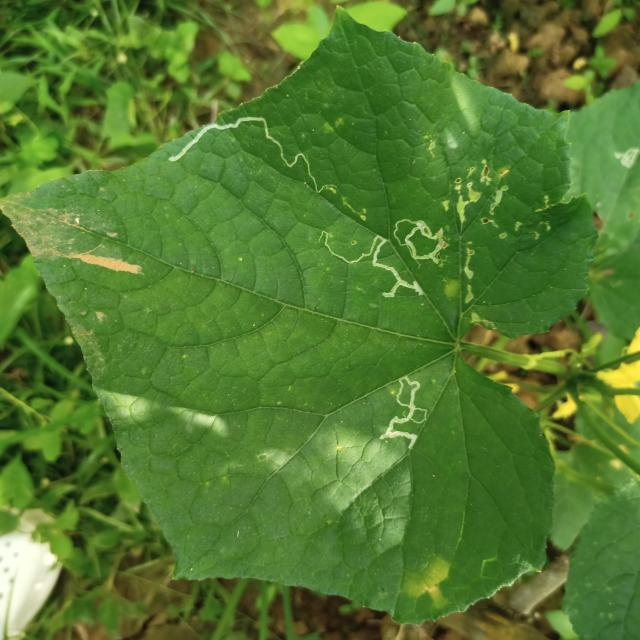disease_cucumber: (401, 556, 455, 613)
